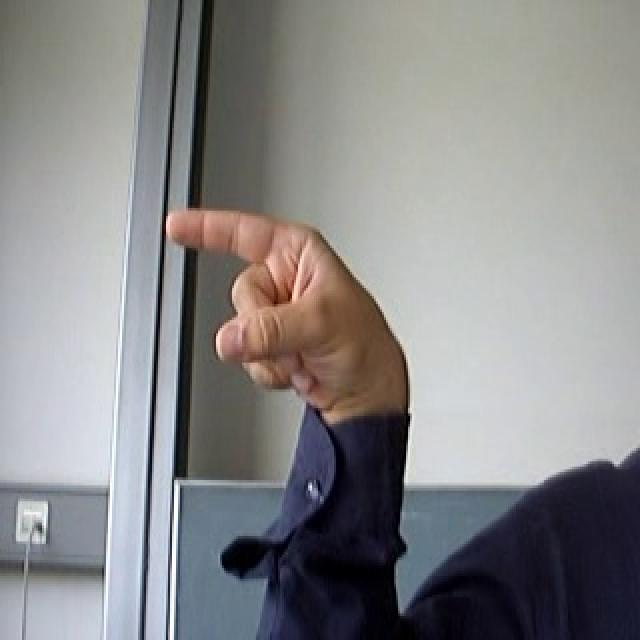P: (133, 164, 447, 433)
